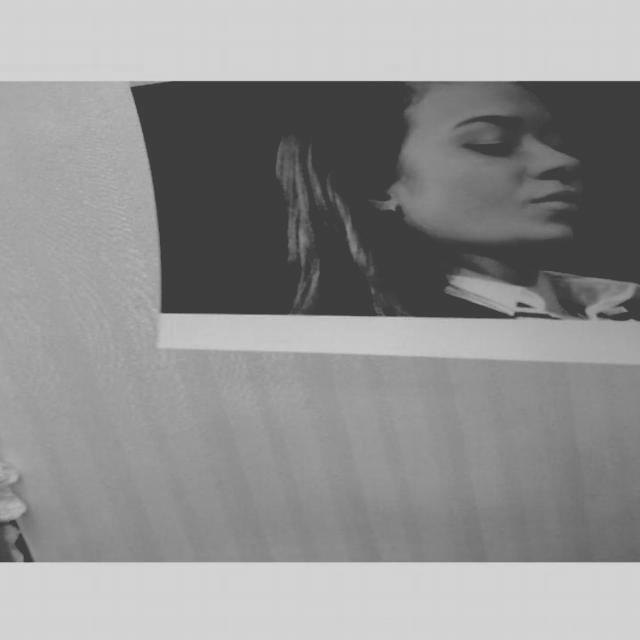fake: (114, 80, 640, 373)
